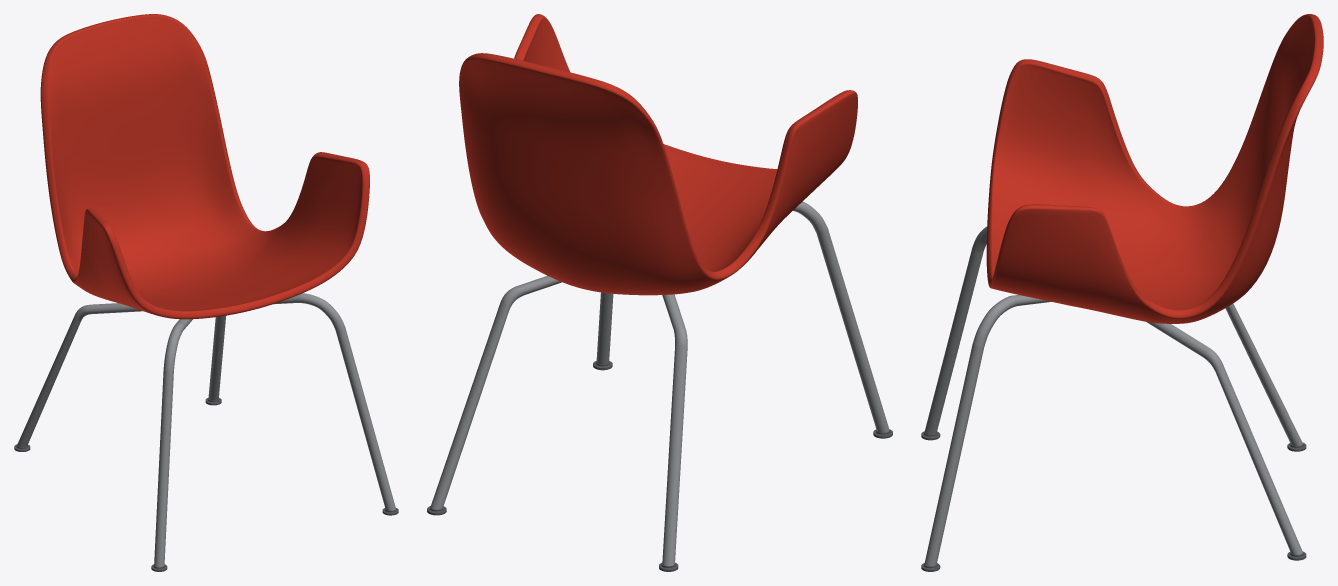
File: chair.FBX
The picture shows the model from 3 angles, left to right: view 1: azimuth 30°, elevation 25°; view 2: azimuth 150°, elevation 25°; view 3: azimuth 270°, elevation 25°; orthographic projection. The views are drawn at different scales.
Parts seen in each view (by area): view 1: chair_seat, chair_leg; view 2: chair_seat, chair_leg; view 3: chair_seat, chair_leg, chair_feet.
Boxes of the visible parts, x1=… form: chair_seat: x1=40, y1=14, x2=369, y2=319; chair_leg: x1=17, y1=293, x2=395, y2=567; chair_seat: x1=459, y1=14, x2=857, y2=295; chair_leg: x1=430, y1=201, x2=889, y2=566; chair_seat: x1=986, y1=14, x2=1323, y2=323; chair_leg: x1=924, y1=226, x2=1302, y2=566; chair_feet: x1=921, y1=431, x2=1306, y2=571.
Size of what is drawn, in the model's own units: 5.53 by 8 by 6.3.
